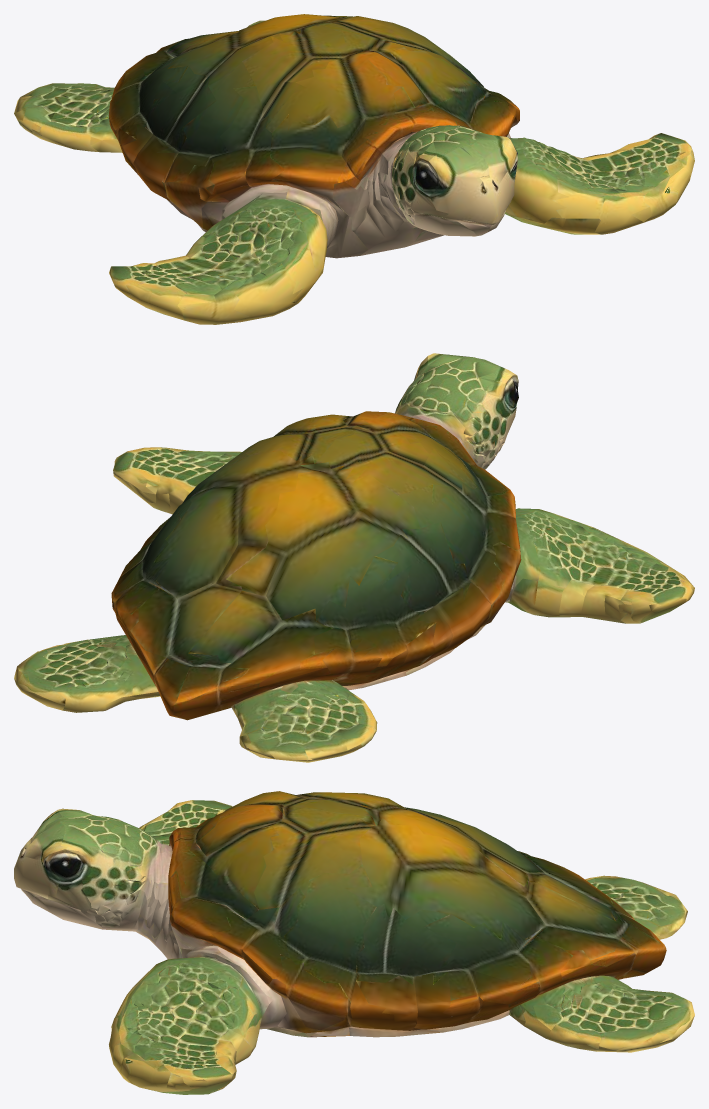
File: turtle.glb
The picture shows the model from 3 angles, top to bottom: view 1: azimuth 30°, elevation 25°; view 2: azimuth 150°, elevation 25°; view 3: azimuth 270°, elevation 25°; orthographic projection.
Size of the model in its own units: 1.94 by 0.5296 by 2.
1 material, 1 textured.
